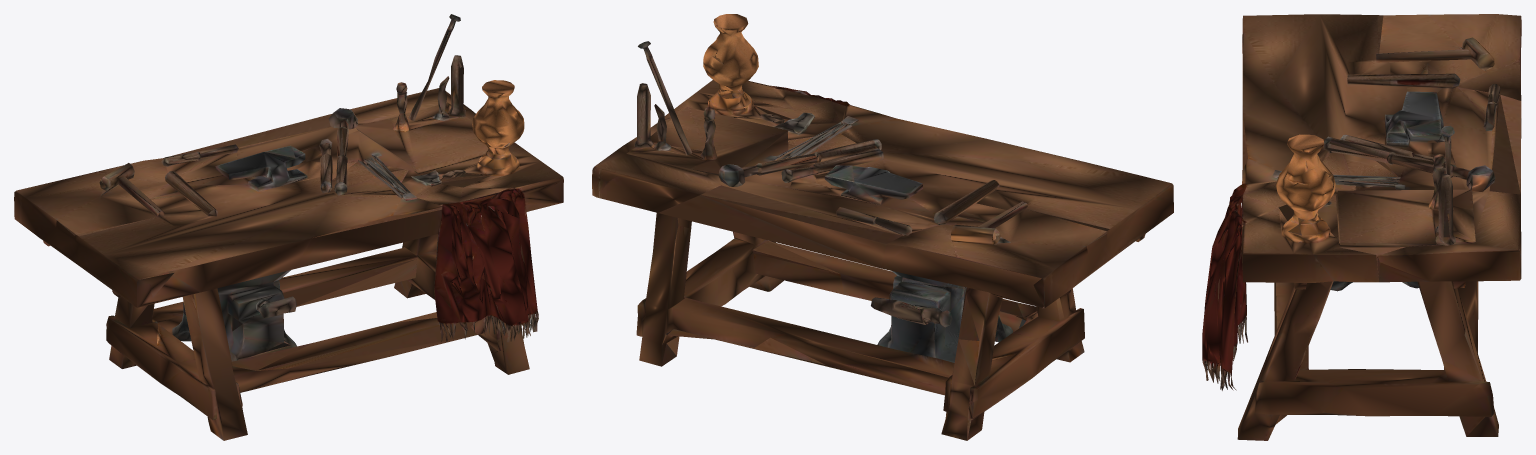
The model's file is la_bench.glb.
3 views of the same model, side by side, from view 1: azimuth 30°, elevation 25°; view 2: azimuth 150°, elevation 25°; view 3: azimuth 270°, elevation 25° (orthographic). The views are drawn at different scales.
Visible parts, largest first — view 1: la_bench; view 2: la_bench; view 3: la_bench.
Part boxes in pixels (x1,y1,x2,y2): la_bench: (14,14,563,440); la_bench: (592,14,1173,440); la_bench: (1202,14,1521,440).
Size of the model in its own units: 1.8 by 1.14 by 1.02.
1 material, 1 textured.
